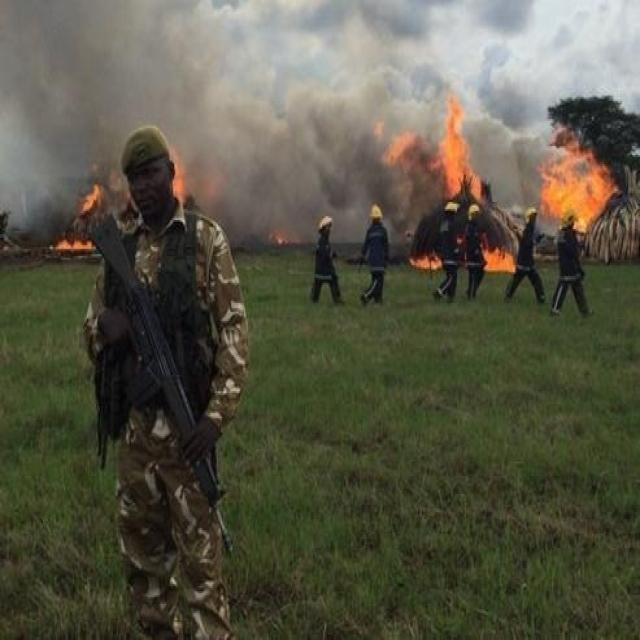Fire: (538, 126, 620, 233), (434, 88, 484, 202), (376, 122, 416, 164), (479, 244, 517, 274), (47, 232, 95, 252), (403, 250, 442, 272), (77, 180, 101, 213), (171, 162, 186, 200)
Smoke: (1, 2, 569, 244)
